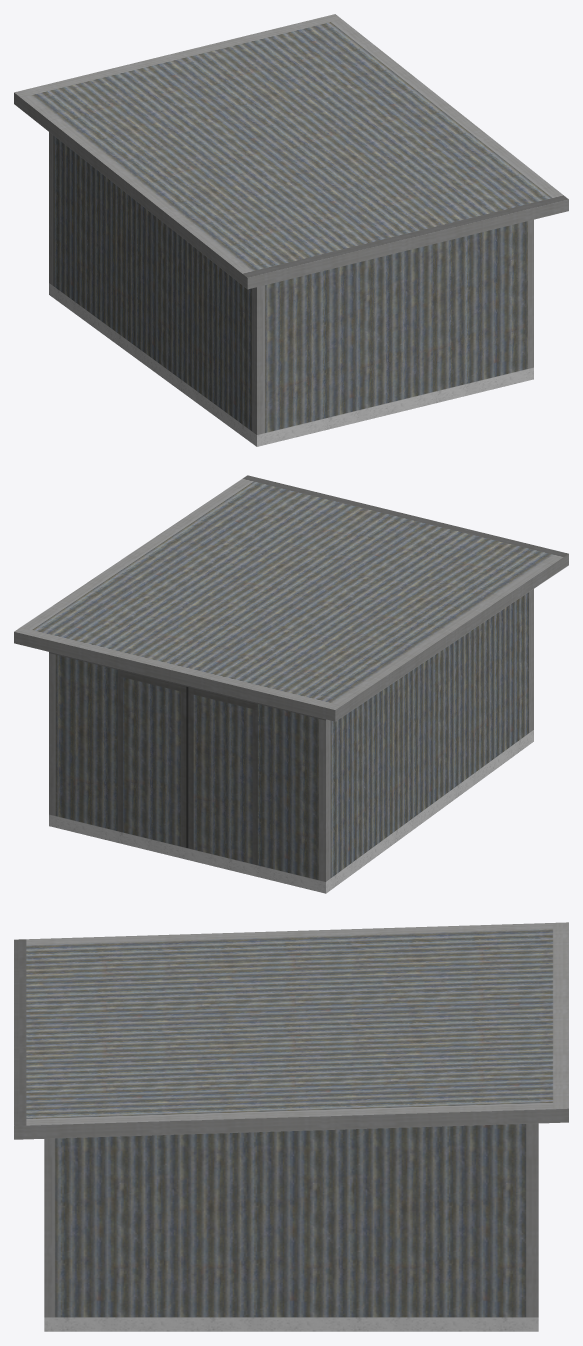
The model's file is shed-6x7x3-cbj_LOD01.gltf.
The picture shows the model from 3 angles, top to bottom: view 1: azimuth 30°, elevation 25°; view 2: azimuth 150°, elevation 25°; view 3: azimuth 270°, elevation 25°; orthographic projection. The views are drawn at different scales.
Parts seen in each view (by area): view 1: shed01; view 2: shed01; view 3: shed01.
Part boxes in pixels (x1,y1,x2,y2): shed01: (14, 14, 568, 446); shed01: (14, 475, 568, 893); shed01: (14, 922, 568, 1331).
Bounding box in the file's own units: 5.8 × 3.42 × 7.3.
